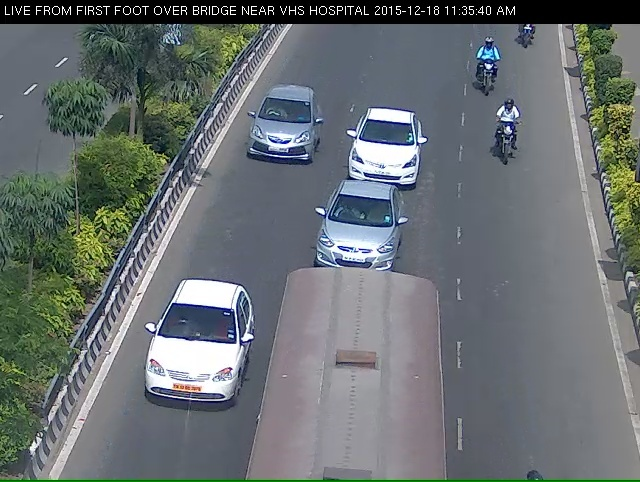Bus: (255, 284, 459, 482)
Car: (137, 300, 238, 431), (342, 114, 441, 200), (314, 189, 398, 283), (242, 90, 319, 185)
Person: (494, 109, 532, 175), (477, 45, 508, 100)
